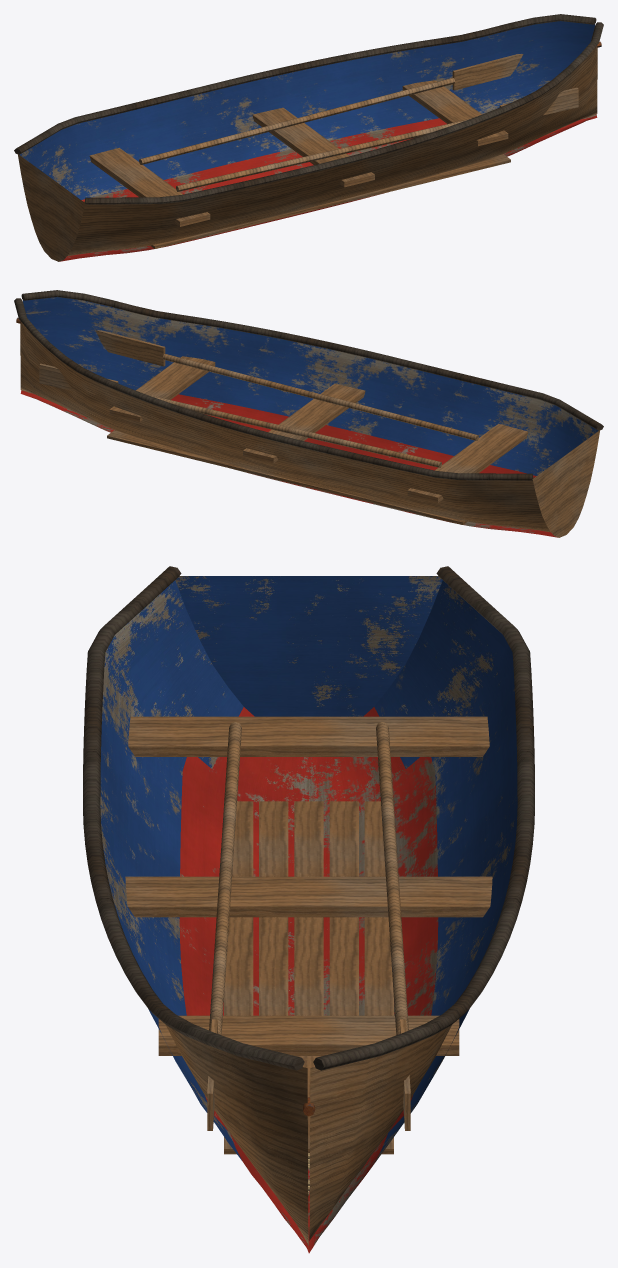
File: rowboat_blue.glb
3 views of the same model, one above another, from view 1: azimuth 30°, elevation 25°; view 2: azimuth 150°, elevation 25°; view 3: azimuth 270°, elevation 25° (orthographic). The views are drawn at different scales.
Visible parts, largest first — view 1: rowboat_blue; view 2: rowboat_blue; view 3: rowboat_blue.
Part boxes in pixels (left/top/right/bottom): rowboat_blue: left=14, top=14, right=603, bottom=261; rowboat_blue: left=14, top=290, right=603, bottom=537; rowboat_blue: left=83, top=566, right=534, bottom=1253.
Size of the model in its own units: 4.33 by 0.8323 by 1.54.
Materials: 6 (6 with a texture image).
